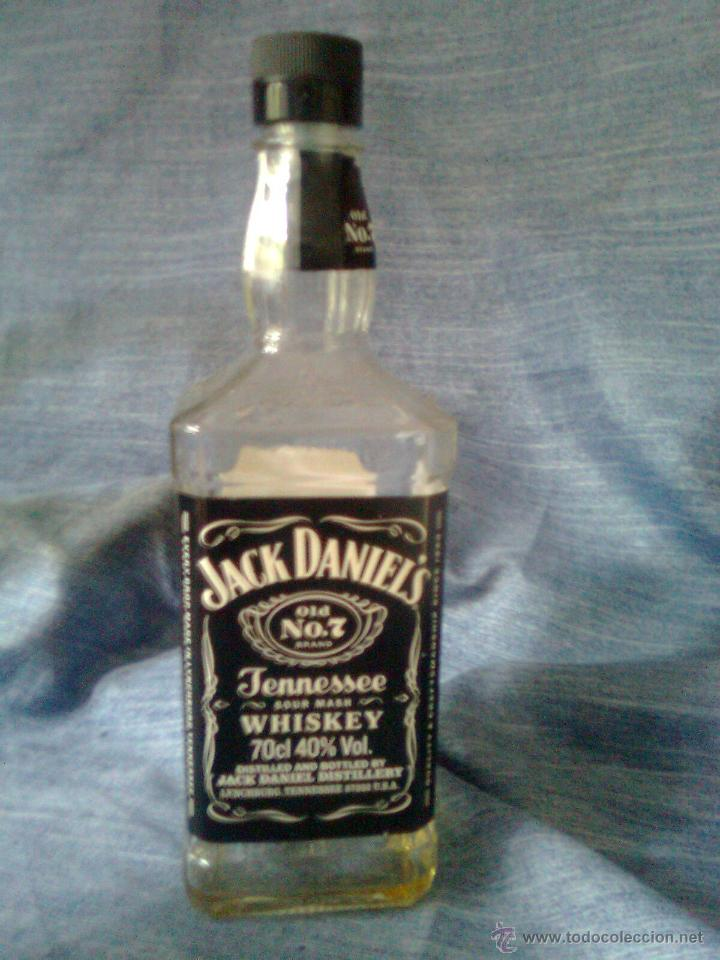Jack Daniel: (140, 11, 475, 940)
